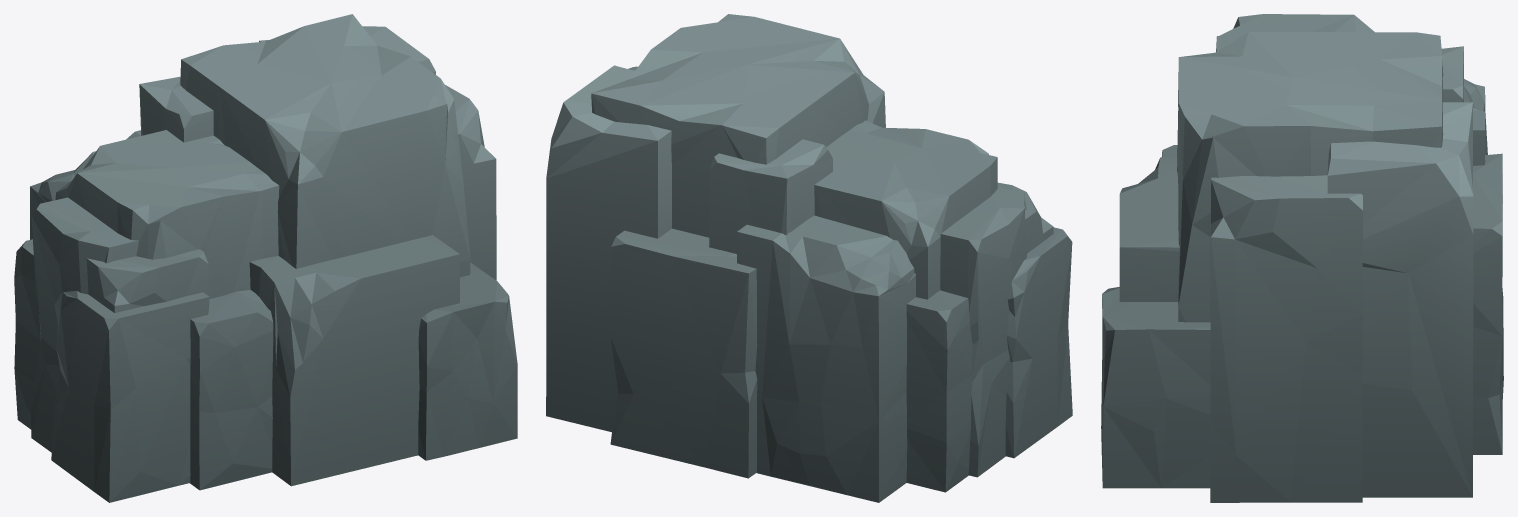
The model's file is BigRock_02.fbx.
3 renders of one model, left to right at view 1: azimuth 30°, elevation 25°; view 2: azimuth 150°, elevation 25°; view 3: azimuth 270°, elevation 25°, orthographic. The views are drawn at different scales.
Visible parts, largest first — view 1: BigRock_02; view 2: BigRock_02; view 3: BigRock_02.
Boxes of the visible parts, <box> form: BigRock_02: <box>14,14,517,502</box>; BigRock_02: <box>546,14,1072,502</box>; BigRock_02: <box>1101,14,1503,502</box>.
Bounding box in the file's own units: 6.92 × 5.2 × 5.33.
